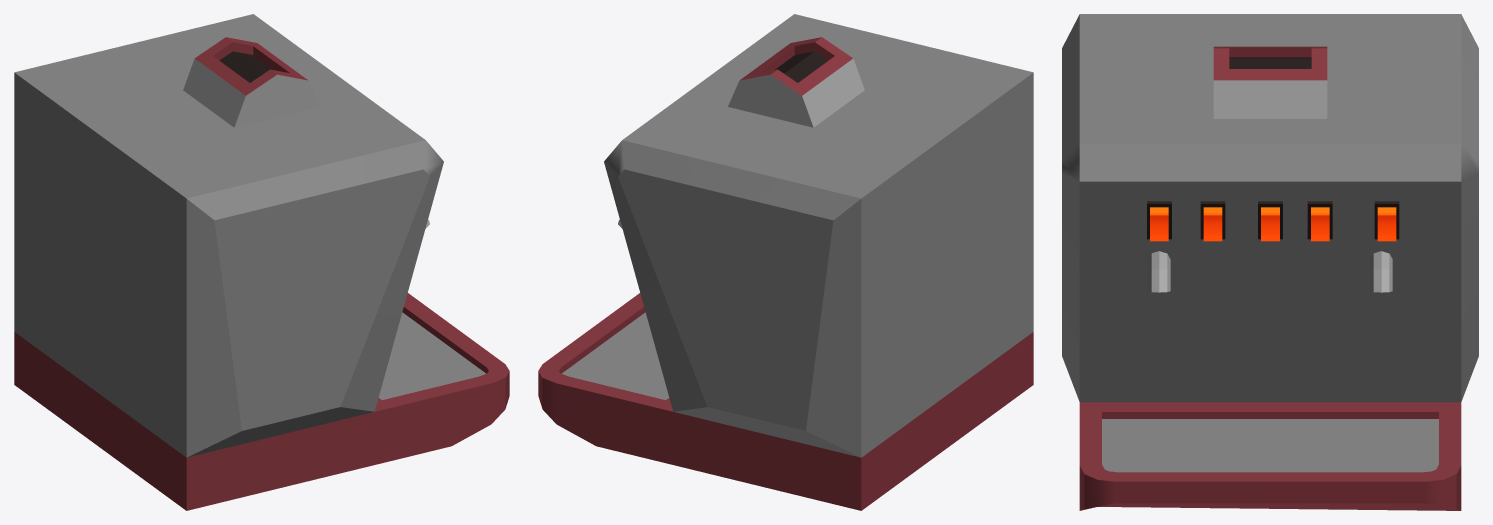
The model's file is CoffeeMachine.fbx.
3 renders of one model, left to right at view 1: azimuth 30°, elevation 25°; view 2: azimuth 150°, elevation 25°; view 3: azimuth 270°, elevation 25°, orthographic. The views are drawn at different scales.
Parts seen in each view (by area): view 1: CoffeeMachine; view 2: CoffeeMachine; view 3: CoffeeMachine.
Part boxes in pixels (left/top/right/bottom): CoffeeMachine: left=14, top=14, right=509, bottom=510; CoffeeMachine: left=538, top=14, right=1033, bottom=510; CoffeeMachine: left=1062, top=14, right=1478, bottom=510.
Size of the model in its own units: 38.53 by 39.04 by 37.5.
